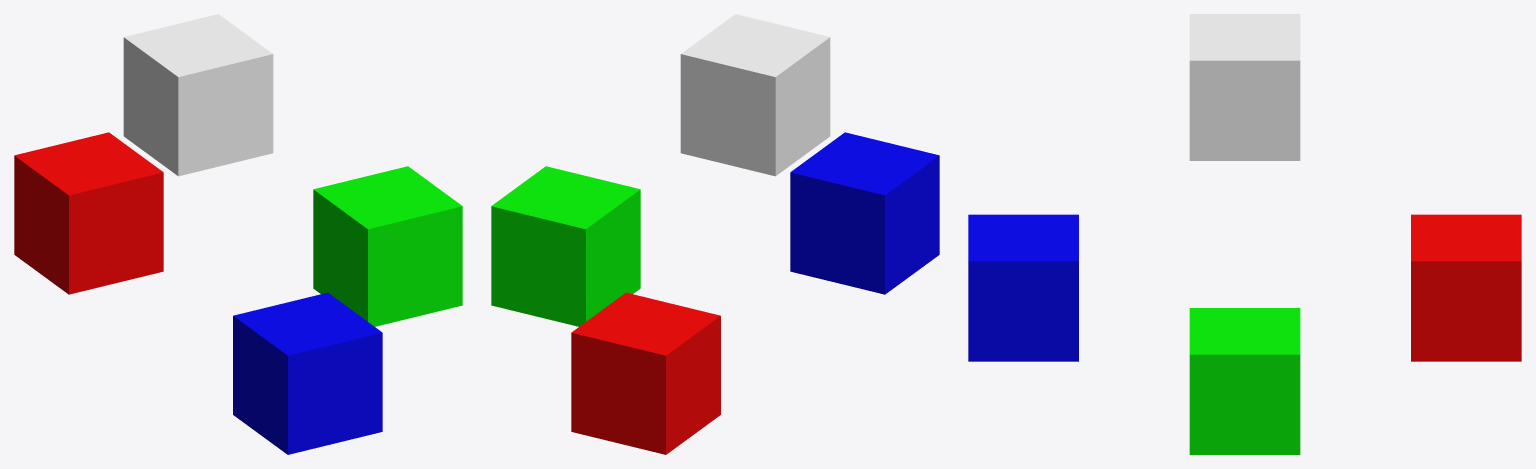
Rendered from iter_0.obj.
The picture shows the model from 3 angles, left to right: view 1: azimuth 30°, elevation 25°; view 2: azimuth 150°, elevation 25°; view 3: azimuth 270°, elevation 25°; orthographic projection.
Parts seen in each view (by area): view 1: iter_0; view 2: iter_0; view 3: iter_0.
Boxes of the visible parts, box(x1,y1,x2,y2) form: iter_0: box(14, 14, 462, 454); iter_0: box(491, 14, 939, 454); iter_0: box(968, 14, 1521, 454).
Size of the model in its own units: 0.3 by 0.3 by 0.5.
